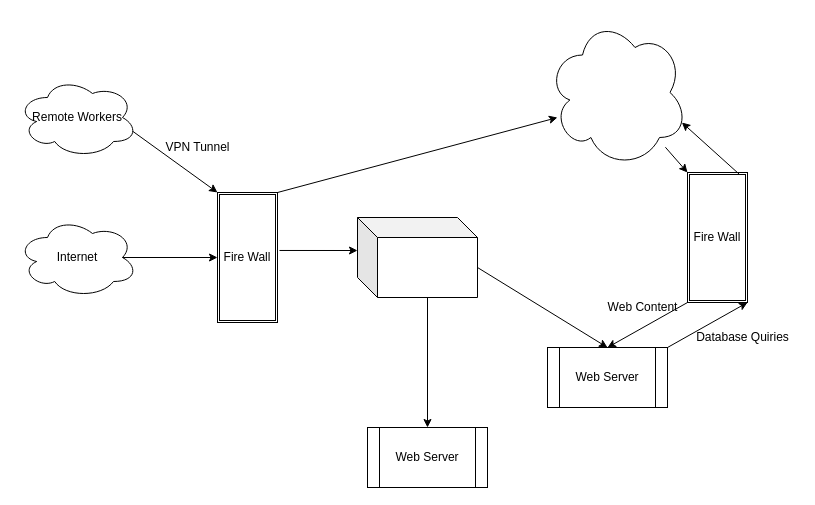
Some shapes in this 815 by 505 pixel diagram are drawn without their labels. The shapes that lost their labels are listed below. From the top down, each one's centre as x and y in pixels, then its label:
At (617,92): "Internal Network".
At (417,257): "Router".
